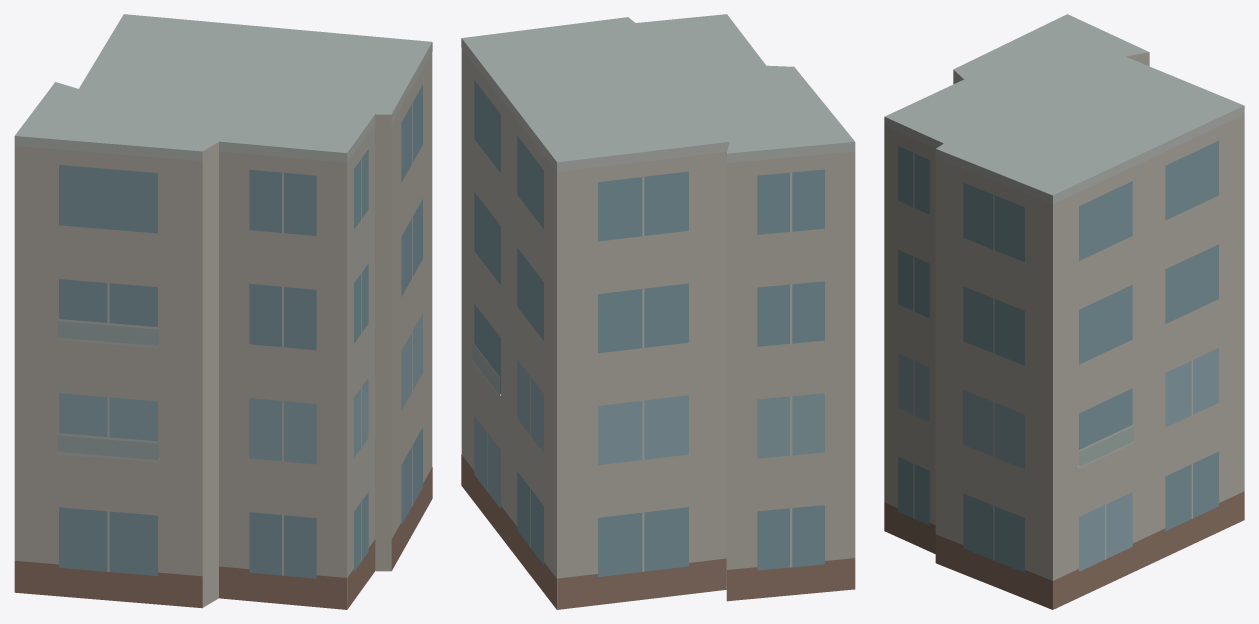
Rendered from survey-upis-32974636.glb.
3 renders of one model, left to right at view 1: azimuth 30°, elevation 25°; view 2: azimuth 150°, elevation 25°; view 3: azimuth 270°, elevation 25°, orthographic. The views are drawn at different scales.
Parts seen in each view (by area): view 1: survey-upis-32974636.tmp; view 2: survey-upis-32974636.tmp; view 3: survey-upis-32974636.tmp.
Boxes of the visible parts, bbox=[...] form: survey-upis-32974636.tmp: bbox=[14, 14, 432, 609]; survey-upis-32974636.tmp: bbox=[461, 14, 855, 609]; survey-upis-32974636.tmp: bbox=[884, 14, 1244, 609].
Size of the model in its own units: 10.71 by 11.4 by 8.98.
